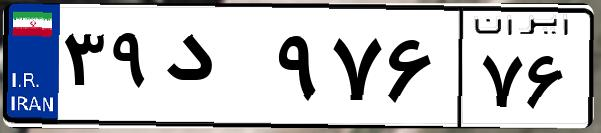3: (57, 26, 110, 100)
6: (385, 28, 445, 110), (525, 38, 570, 115)
7: (330, 28, 385, 110), (475, 38, 525, 113)
9: (270, 28, 330, 110), (110, 28, 158, 98)
د: (158, 20, 270, 120)
